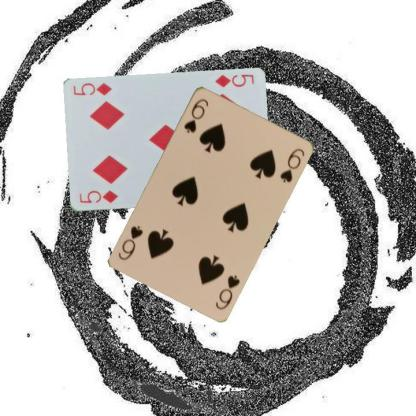5d: (212, 72, 255, 89), (76, 188, 119, 204)
6s: (181, 95, 210, 134), (213, 272, 241, 311)
